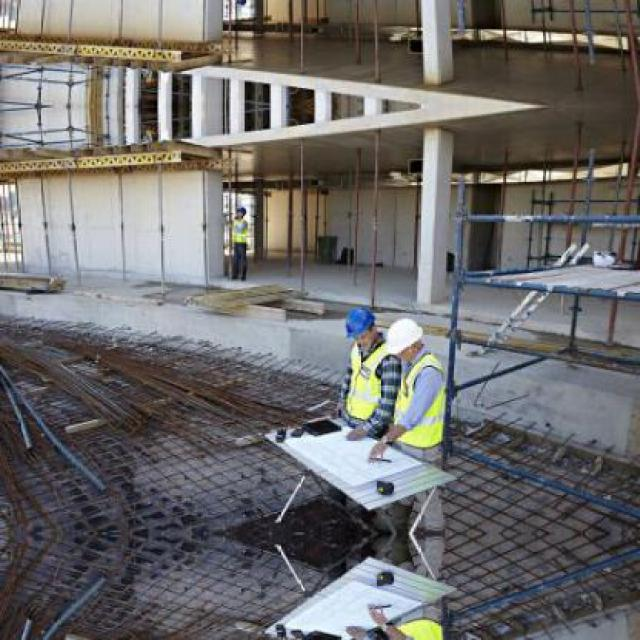helmet: (343, 300, 383, 346), (384, 313, 424, 355)
